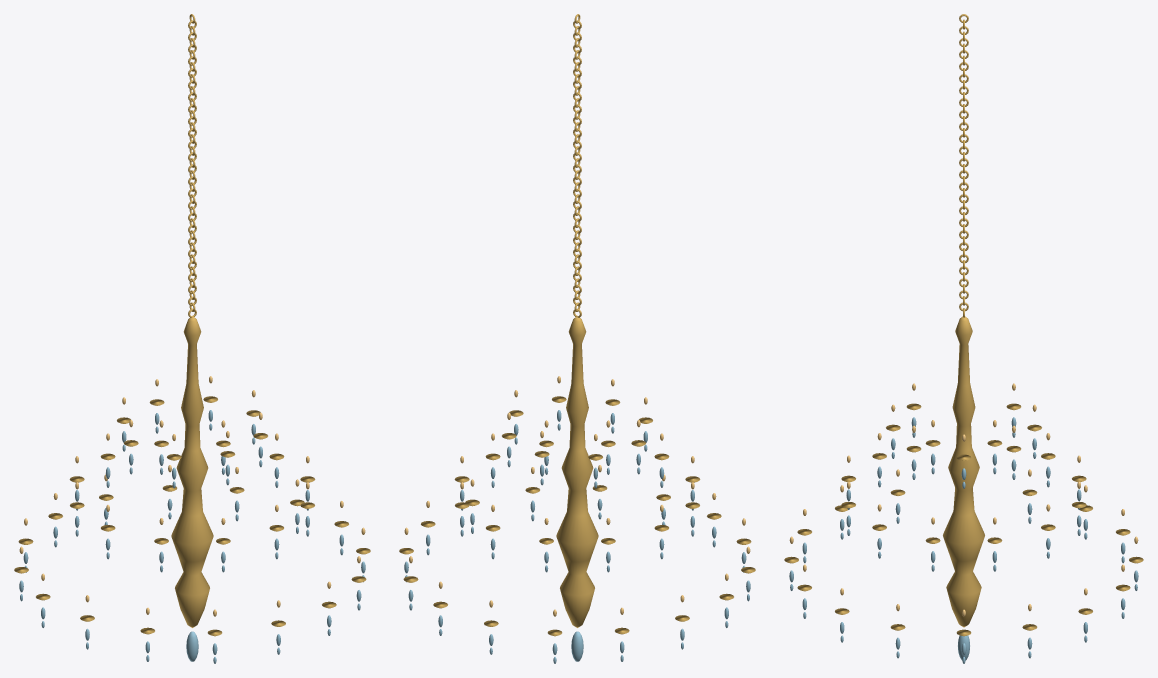
File: KRM_STATIC_011.fbx
3 renders of one model, left to right at view 1: azimuth 30°, elevation 25°; view 2: azimuth 150°, elevation 25°; view 3: azimuth 270°, elevation 25°, orthographic.
Parts seen in each view (by area): view 1: KRM_STATIC_011; view 2: KRM_STATIC_011; view 3: KRM_STATIC_011.
Part boxes in pixels (x1,y1,x2,y2): KRM_STATIC_011: (14,14,370,663); KRM_STATIC_011: (399,14,755,663); KRM_STATIC_011: (784,14,1143,663).
Size of the model in its own units: 407 by 808 by 407.
1 material, 1 textured.
